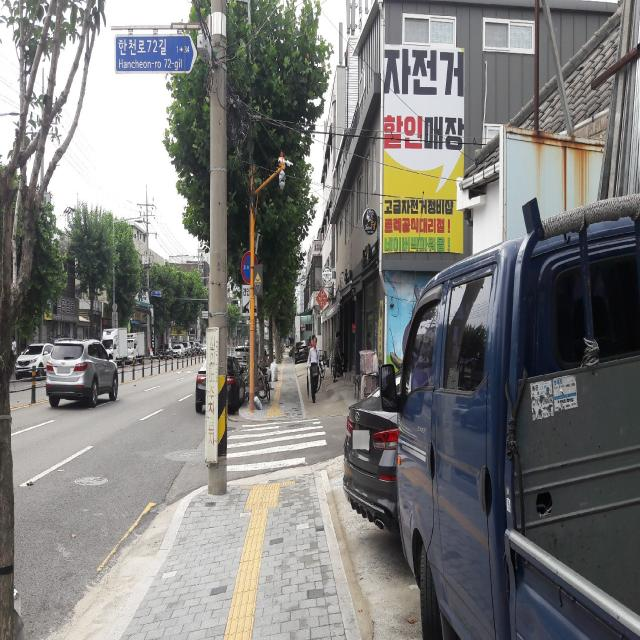횡단보도: (223, 417, 328, 472)
